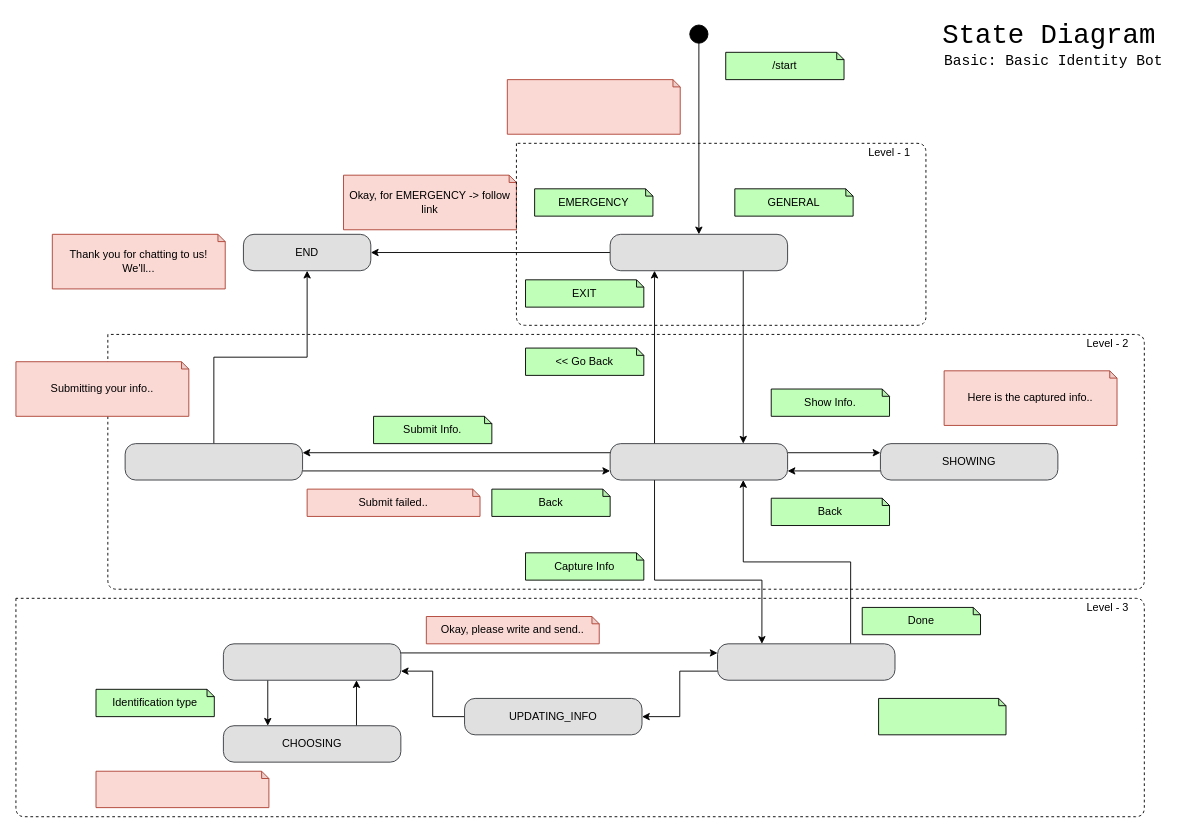
This 1188x834 diagram has some shape labels left out. Here are the shapes that lost their labels. From the top down, the centre of each, then its label:
(593,106): Hi there. My name is XXX Bot. I'm your virtual assistant..
(698,252): SELECTING_REASON
(213,461): SUBMIT
(698,461): SELECTING_ACTION
(311,661): TYPING
(806,661): SELECTING_FIELD
(942,716): (Name, Surname, Nationality, ...)
(182,789): You can choose your identification type..
